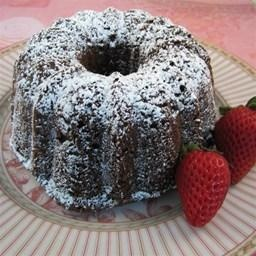background: (3, 2, 102, 90)
